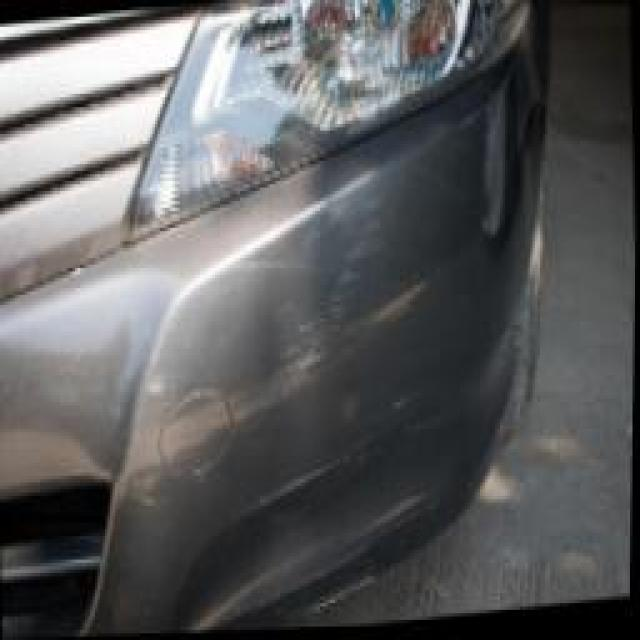Bumper: (258, 208, 405, 400)
